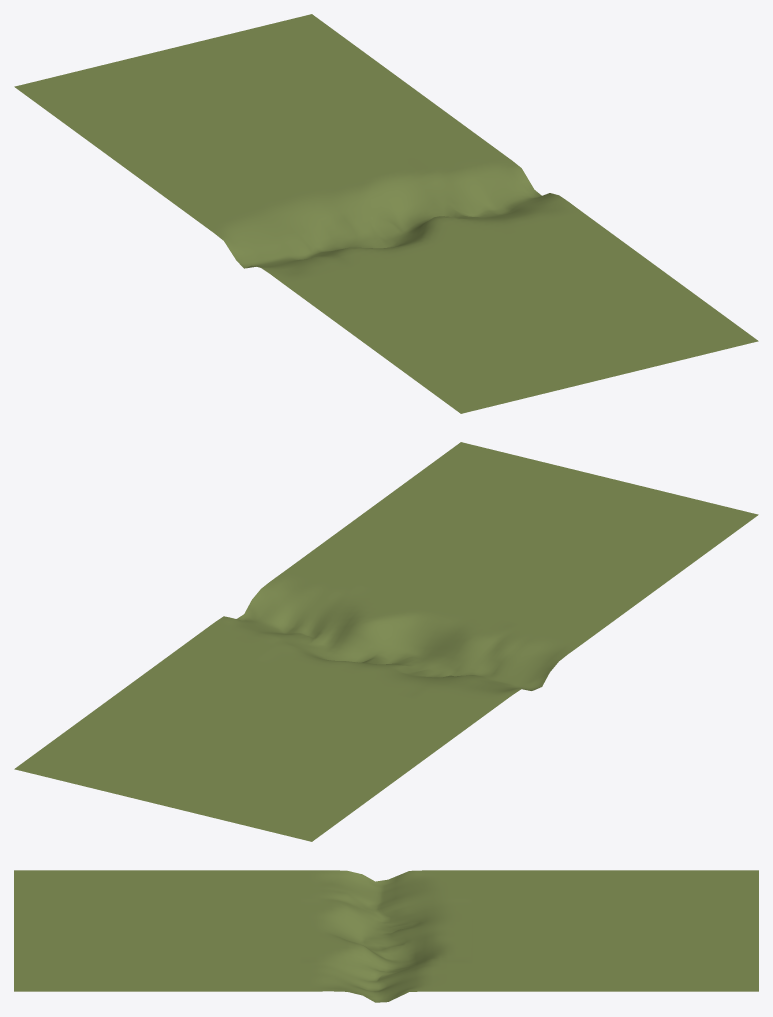
The model's file is 2_2 Tile_5_smooth.fbx.
3 renders of one model, top to bottom at view 1: azimuth 30°, elevation 25°; view 2: azimuth 150°, elevation 25°; view 3: azimuth 270°, elevation 25°, orthographic. The views are drawn at different scales.
Visible parts, largest first — view 1: Tile 3.001; view 2: Tile 3.001; view 3: Tile 3.001.
Part boxes in pixels (x1,y1,x2,y2): Tile 3.001: [14, 14, 758, 413]; Tile 3.001: [14, 442, 758, 841]; Tile 3.001: [14, 870, 758, 1002].
Size of the model in its own units: 5000 by 379 by 12991.
